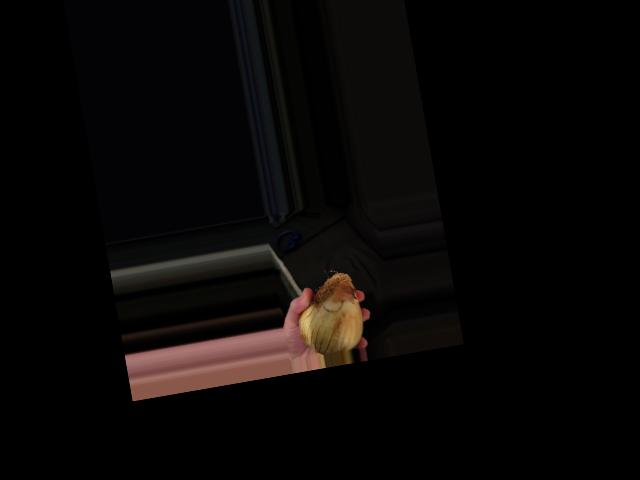onion: (292, 268, 367, 353)
